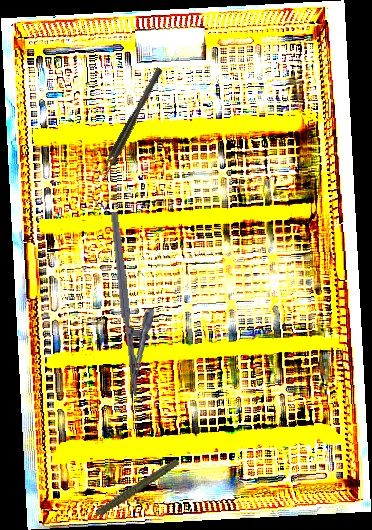Handpiece: (72, 457, 188, 524)
Needle Holder: (109, 208, 164, 397)
Tissue Forceps: (98, 67, 166, 179)
